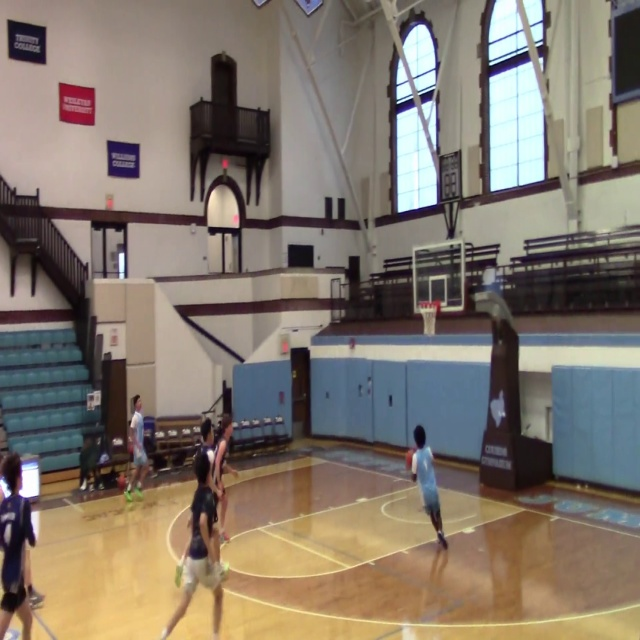Basketball: (193, 448, 216, 480), (405, 448, 416, 470)
